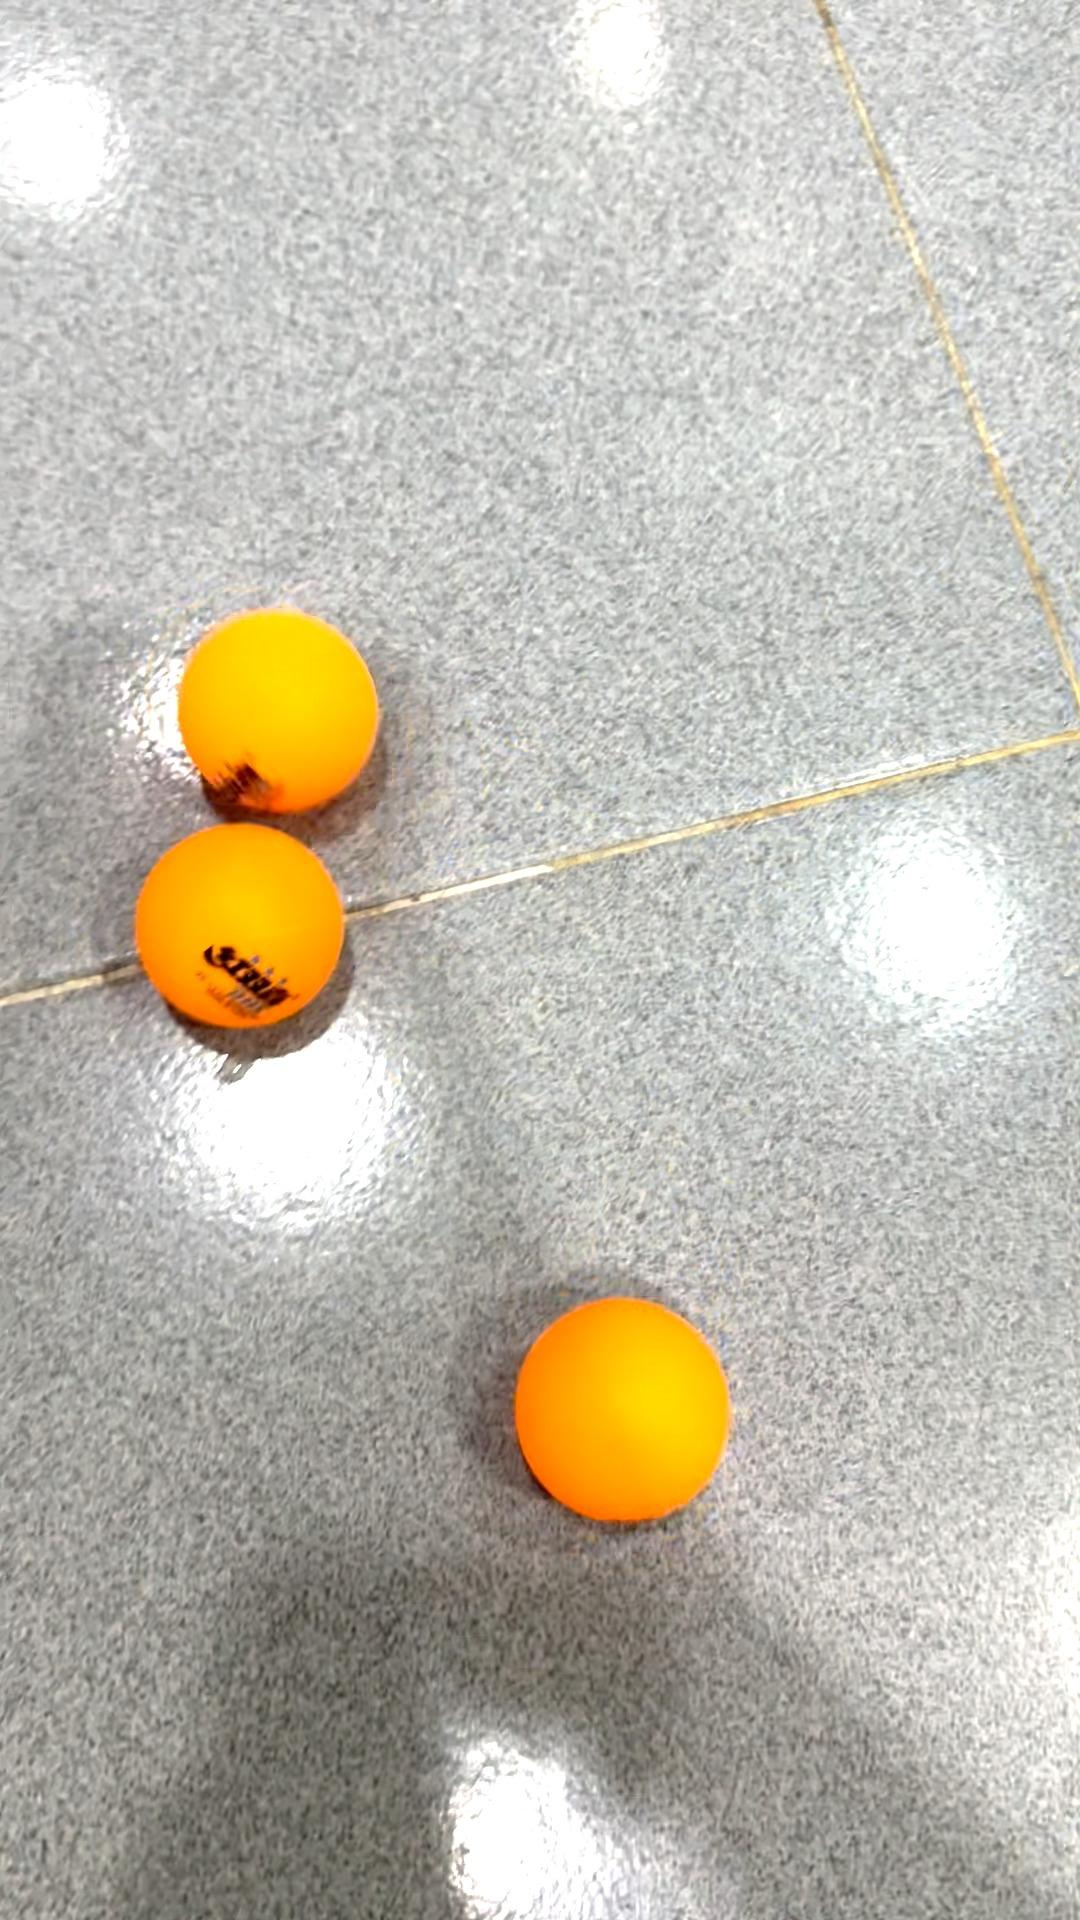oball: (505, 1282, 740, 1535), (121, 824, 357, 1051), (165, 601, 393, 811)
